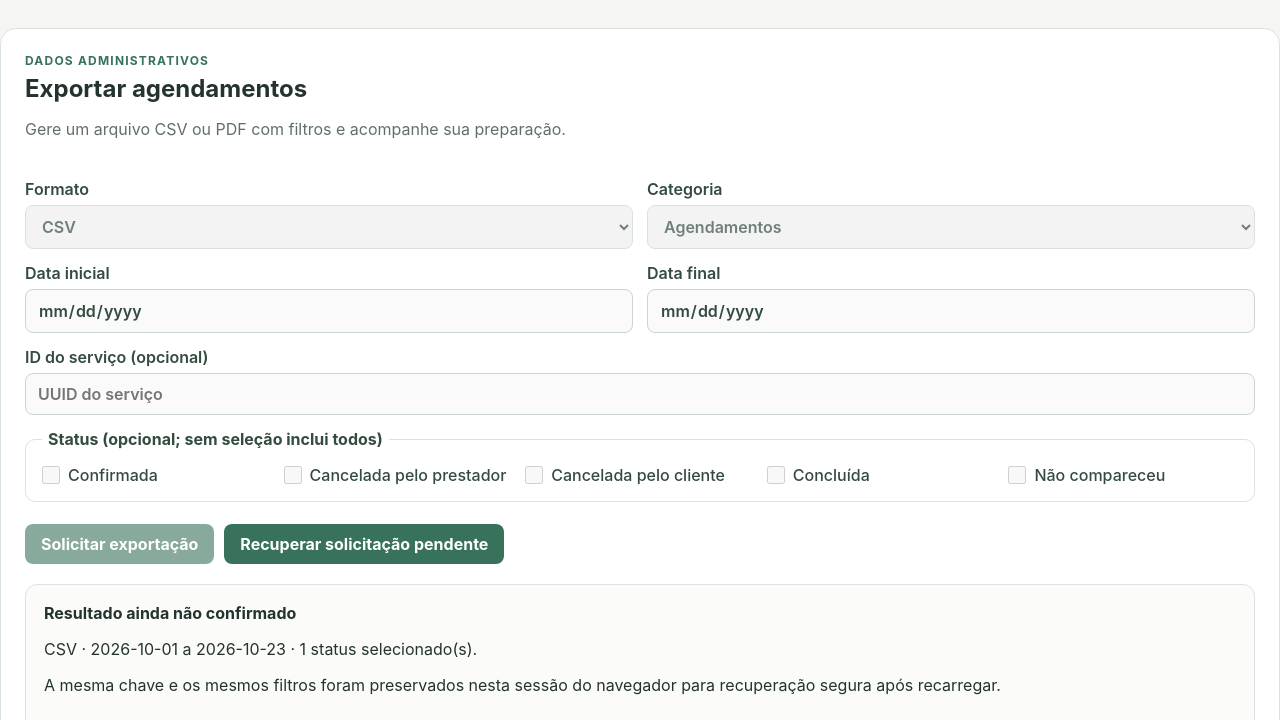
it: ExportCenter DOM interactions › keeps an uncertain intent ahead of /active after reload and retries the same body/key
Step 1. Click the button "Recuperar solicitação pendente" → (364, 544), box [224,524,504,564]
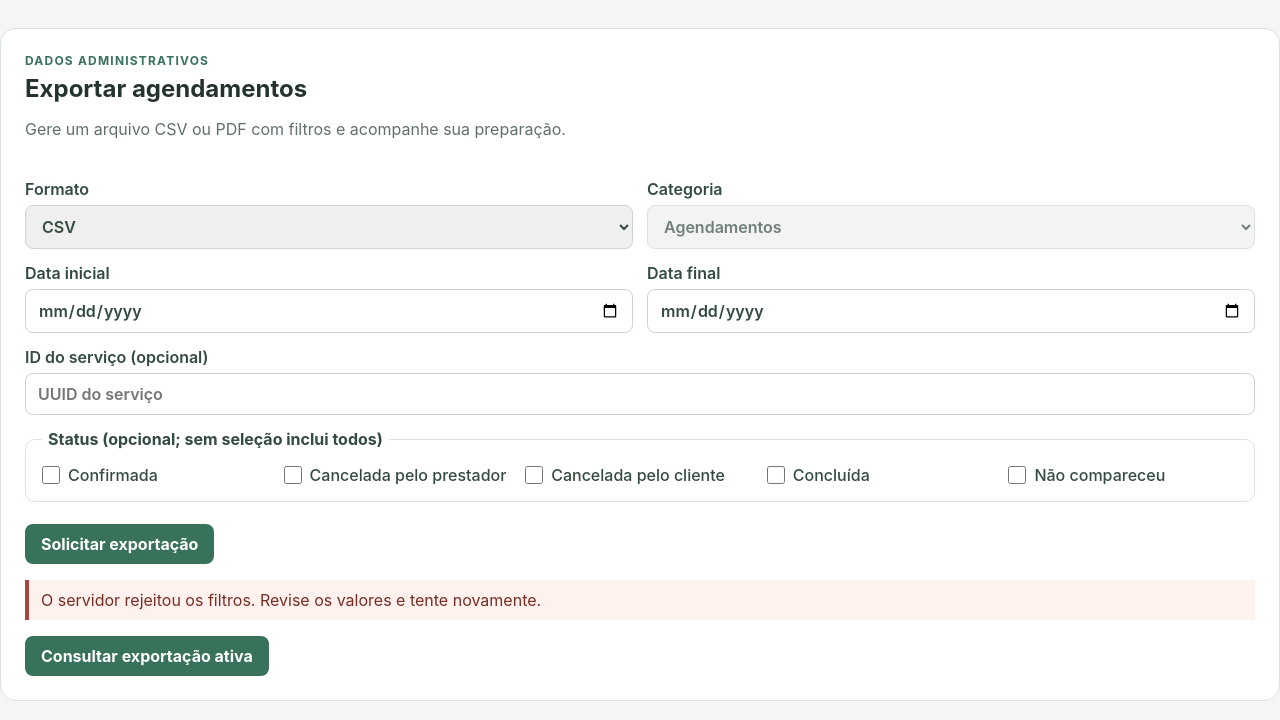
Expected: the text "Resultado ainda não confirmado" is gone
Expected: the button "Solicitar exportação" is enabled, [25,524,214,564]
